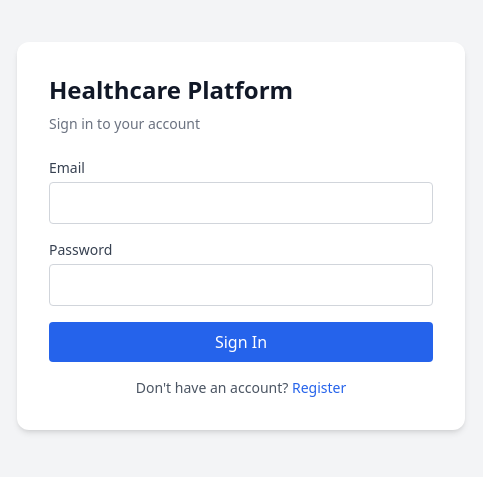
Test: LoginPage › shows error message on failed login
In the field labelled "Email": (241, 203) 49,182 -> 433,224, type "user@test.com"
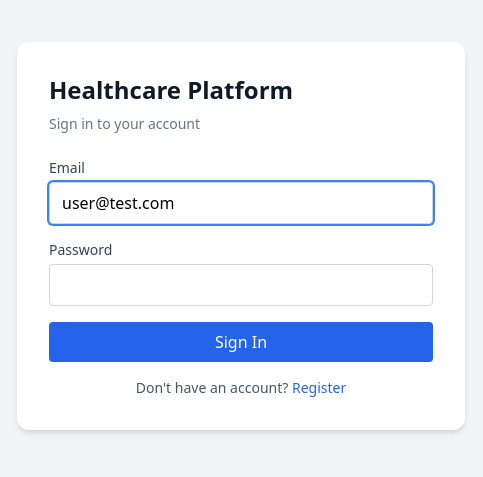
In the password field labelled "Password": (241, 285) 49,264 -> 433,306, type "wrongpassword"
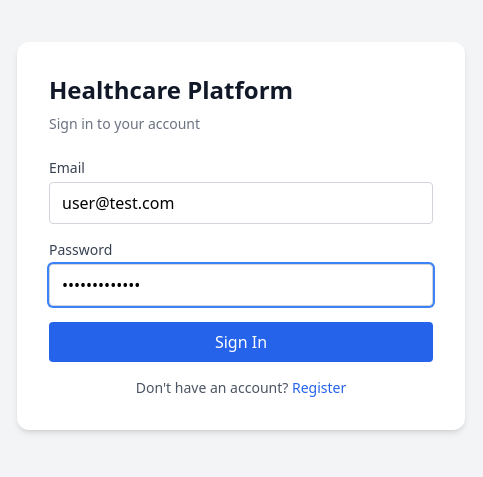
Click the button "Sign In": (241, 342) 49,322 -> 433,362
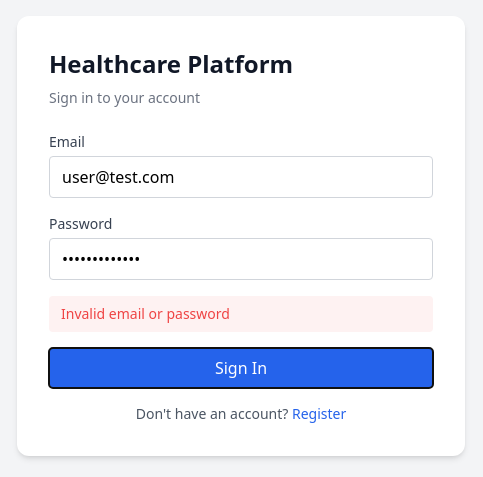
Expected: the text "Invalid email or password" is shown, 49,296 -> 433,332
